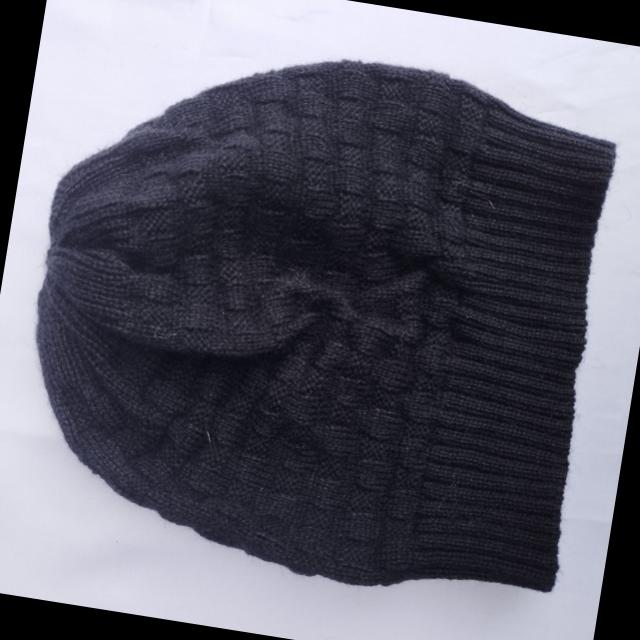Gorro: (0, 14, 633, 619)
